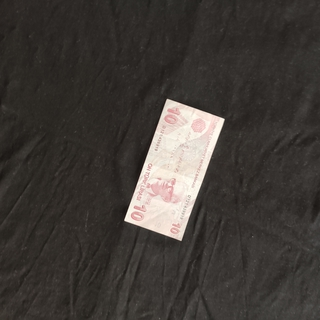10TLBack: (122, 96, 226, 241)
